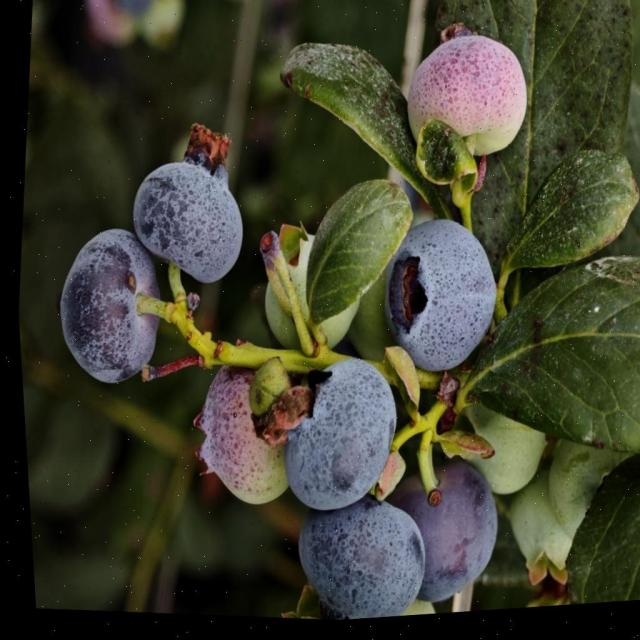RipeBlueBerry: (120, 121, 254, 295), (41, 218, 166, 391), (265, 362, 399, 520), (373, 216, 502, 380), (278, 497, 420, 627)
Semi-RipeBlueBerry: (400, 27, 534, 171)
